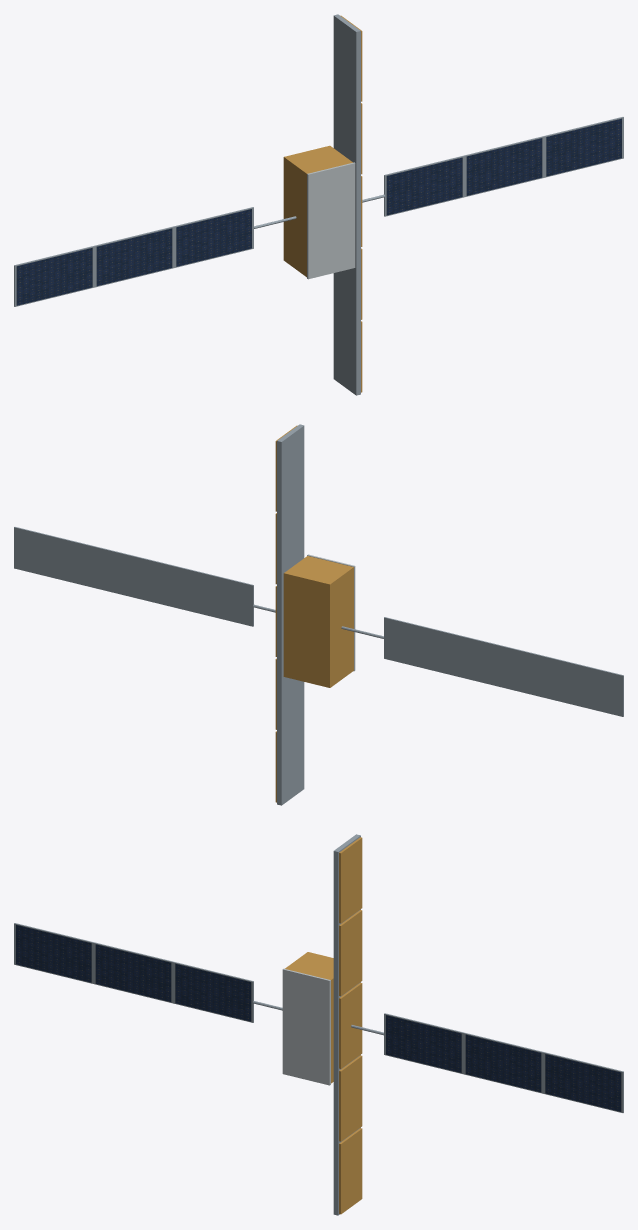
The model's file is sentinel-1.glb.
3 views of the same model, one above another, from view 1: azimuth 30°, elevation 25°; view 2: azimuth 150°, elevation 25°; view 3: azimuth 330°, elevation 25° (orthographic).
Visible parts, largest first — view 1: Photovoltaic laminates (×6), Radar antenna, Payload deck, Equipment module, Array frame (×4); view 2: Array frame (×6), Equipment module, Radar antenna; view 3: Photovoltaic laminates (×6), Antenna panel (×5), Payload deck, Radar antenna, Array frame (×4), Equipment module.
Part boxes in pixels (x1,y1,x2,y2): Photovoltaic laminates (×6): (16, 118, 621, 305); Radar antenna: (333, 14, 360, 395); Payload deck: (307, 162, 355, 279); Equipment module: (283, 145, 352, 277); Array frame (×4): (14, 136, 544, 306); Array frame (×6): (14, 527, 623, 716); Equipment module: (283, 556, 353, 687); Radar antenna: (277, 424, 304, 805); Photovoltaic laminates (×6): (16, 925, 621, 1111); Antenna panel (×5): (339, 837, 362, 1214); Payload deck: (282, 968, 330, 1085); Radar antenna: (333, 834, 360, 1215); Array frame (×4): (93, 942, 623, 1112); Equipment module: (285, 952, 333, 1083).
Size of the model in its own units: 21.04 by 12 by 1.49.
Materials: 4 (1 with a texture image).
